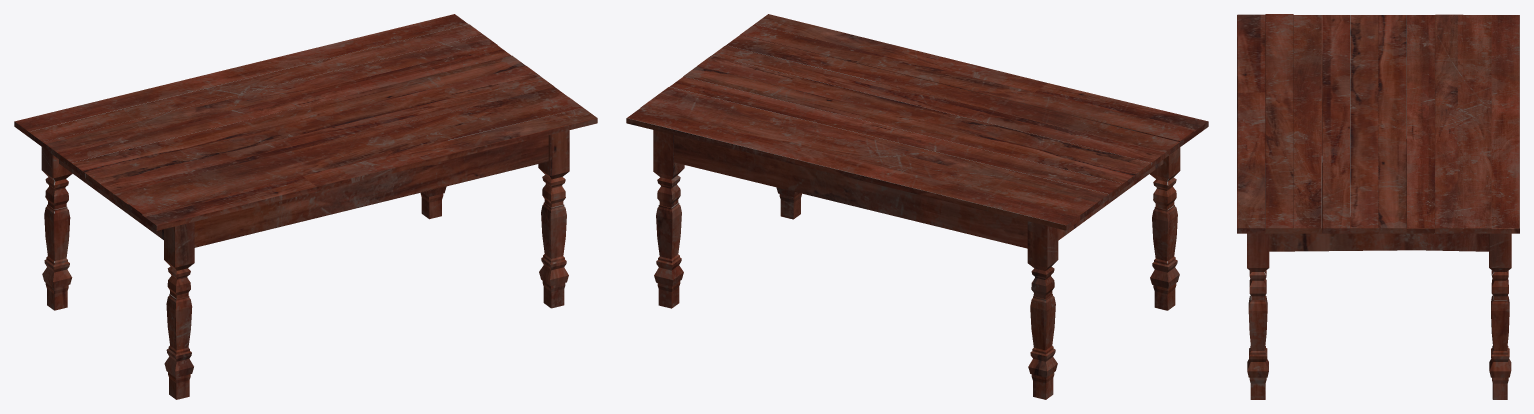
3 renders of one model, left to right at view 1: azimuth 30°, elevation 25°; view 2: azimuth 150°, elevation 25°; view 3: azimuth 270°, elevation 25°, orthographic.
Parts seen in each view (by area): view 1: Plane_002; view 2: Plane_002; view 3: Plane_002.
Boxes of the visible parts, box(x1,y1,x2,y2) form: Plane_002: box(14, 14, 597, 399); Plane_002: box(626, 14, 1208, 399); Plane_002: box(1237, 14, 1519, 399).
Bounding box in the file's own units: 201 × 81.1 × 112.
Materials: 1 (1 with a texture image).
